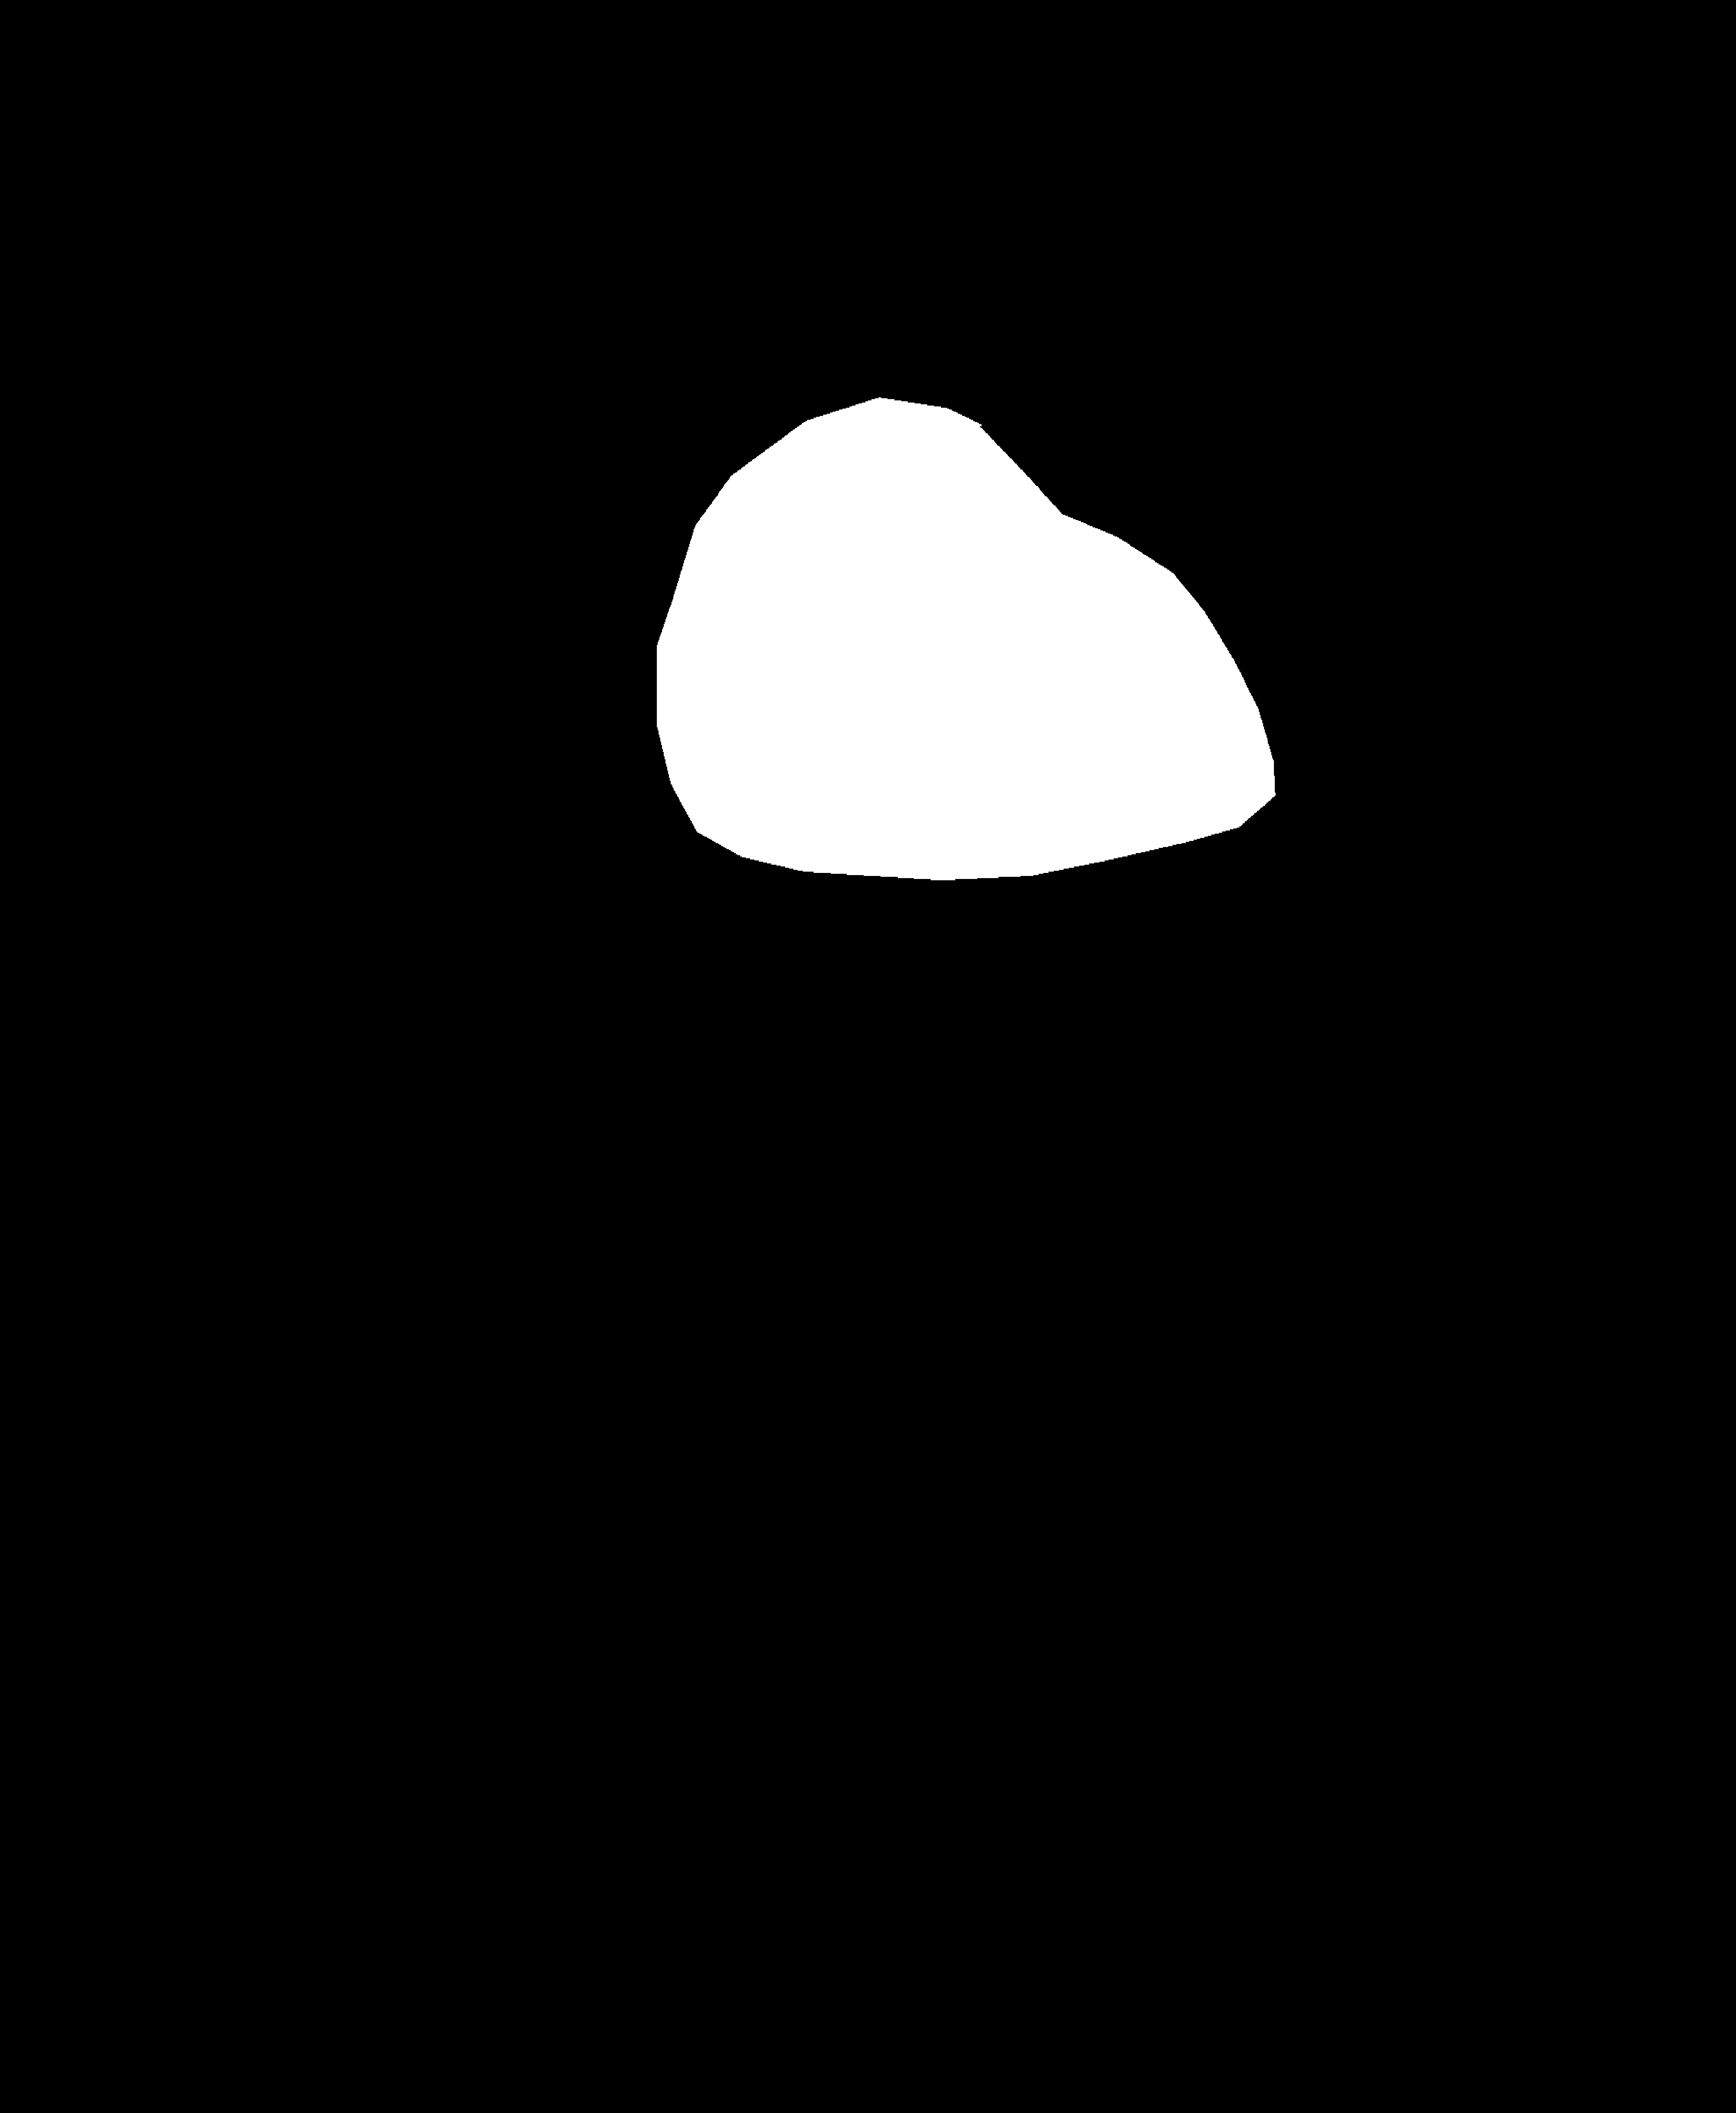heart: (649, 514, 1273, 839)
left_lung: (251, 102, 744, 1035)
right_lung: (874, 82, 1452, 958)
